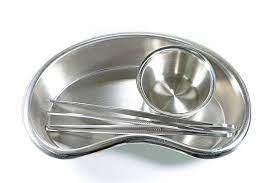Kidney Tray: (24, 27, 251, 160)
